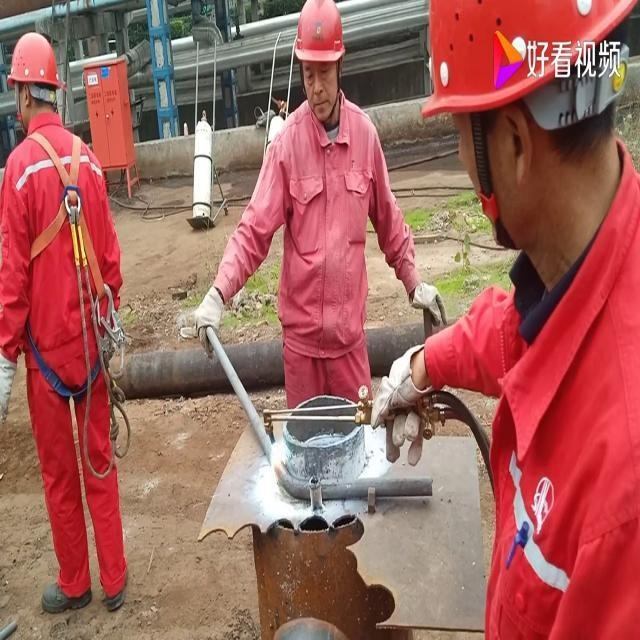Arnes_seguridad: (10, 118, 110, 328)
